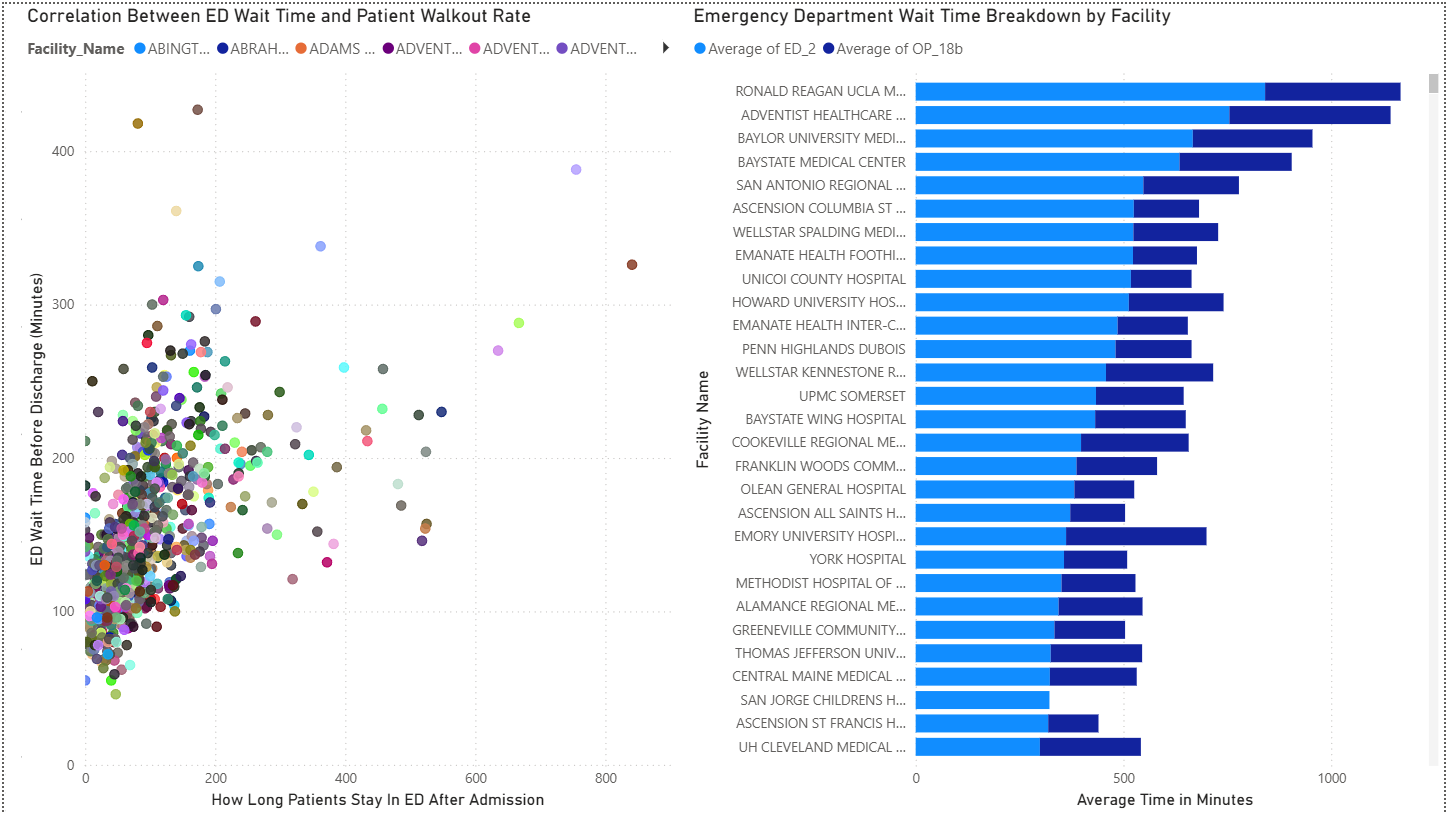

What the dashboard file says about the page in this screenshot:
{"tool":"powerbi","page":{"name":"Do ED Delays Occur Before or After Admission","canvas":[1280,720],"ordinal":2},"visuals":[{"type":"scatterChart","title":"Correlation Between ED Wait Time and Patient Walkout Rate","fields":{"X":["Metric #2 ED_2 & OP_18b.ED_2"],"Y":["Metric #2 ED_2 & OP_18b.OP_18b"],"Series":["Metric #2 ED_2 & OP_18b.Facility_Name"]},"box":[16,0,592,720],"z":0},{"type":"barChart","title":"Emergency Department Wait Time Breakdown by Facility","fields":{"Category":["Metric #2 ED_2 & OP_18b.Facility_Name"],"Y":["Metric #2 ED_2 & OP_18b.ED_2","Metric #2 ED_2 & OP_18b.OP_18b"]},"box":[608,0,672,720],"z":1000}]}

Visuals, with their boxes in screenshot pixels (x1, y1, x2, y2), scaled from the page's 1280x720 canvas onto the 1447x814 screenshot:
"Correlation Between ED Wait Time and Patient Walkout Rate" scatterChart: 18:0:687:813
"Emergency Department Wait Time Breakdown by Facility" barChart: 687:0:1446:813
